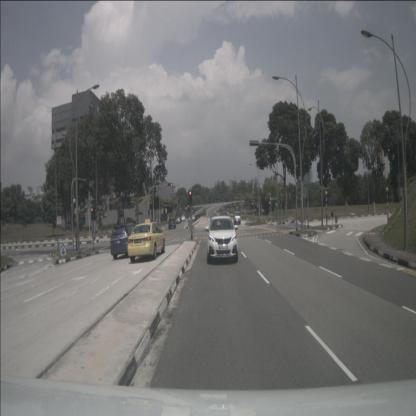vehicle-car: (127, 222, 165, 262), (208, 216, 238, 264), (110, 223, 144, 259), (233, 211, 241, 225), (169, 218, 176, 230), (176, 216, 181, 224), (181, 215, 186, 222)
